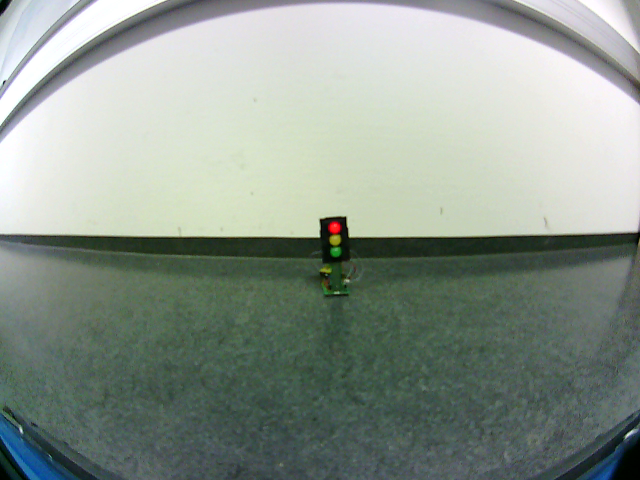red trafficlight: (323, 219, 346, 262)
